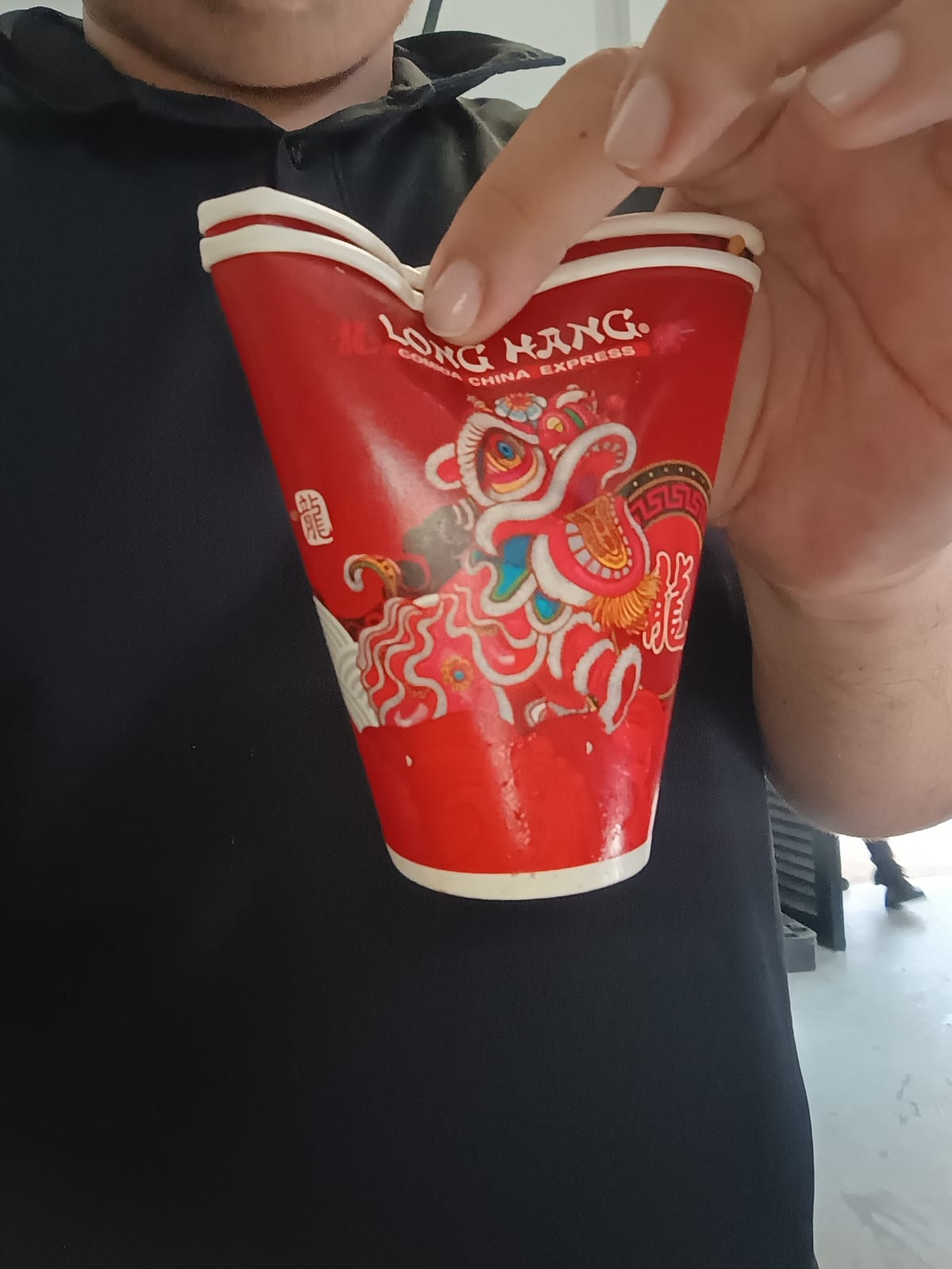Carton: (197, 191, 768, 899)
